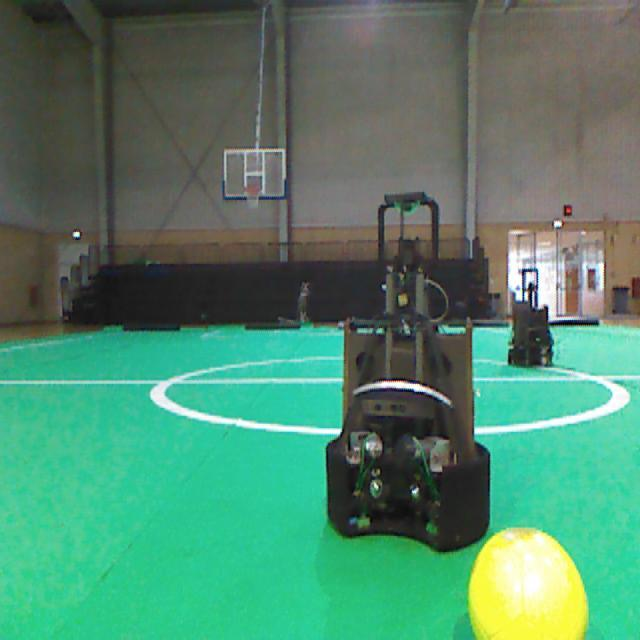ball: (468, 528, 587, 637)
robot: (326, 238, 490, 551), (508, 268, 553, 365)
